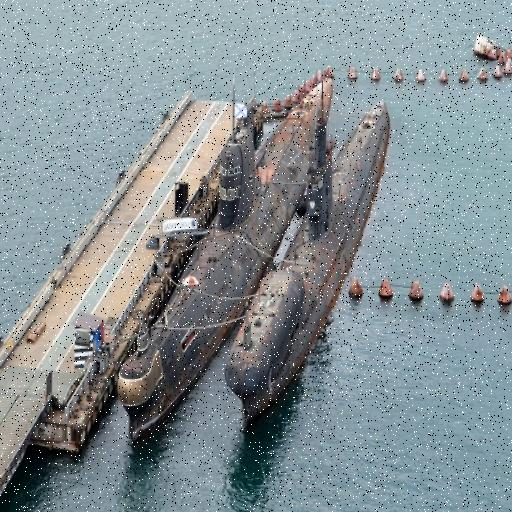submarine: (133, 69, 336, 439), (226, 101, 394, 422)
